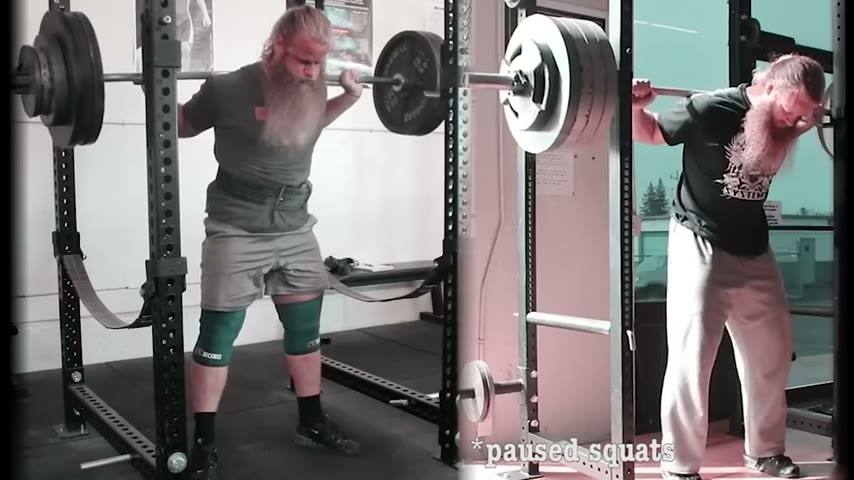barbell_plate_side: (1, 3, 111, 155), (504, 3, 568, 159)
